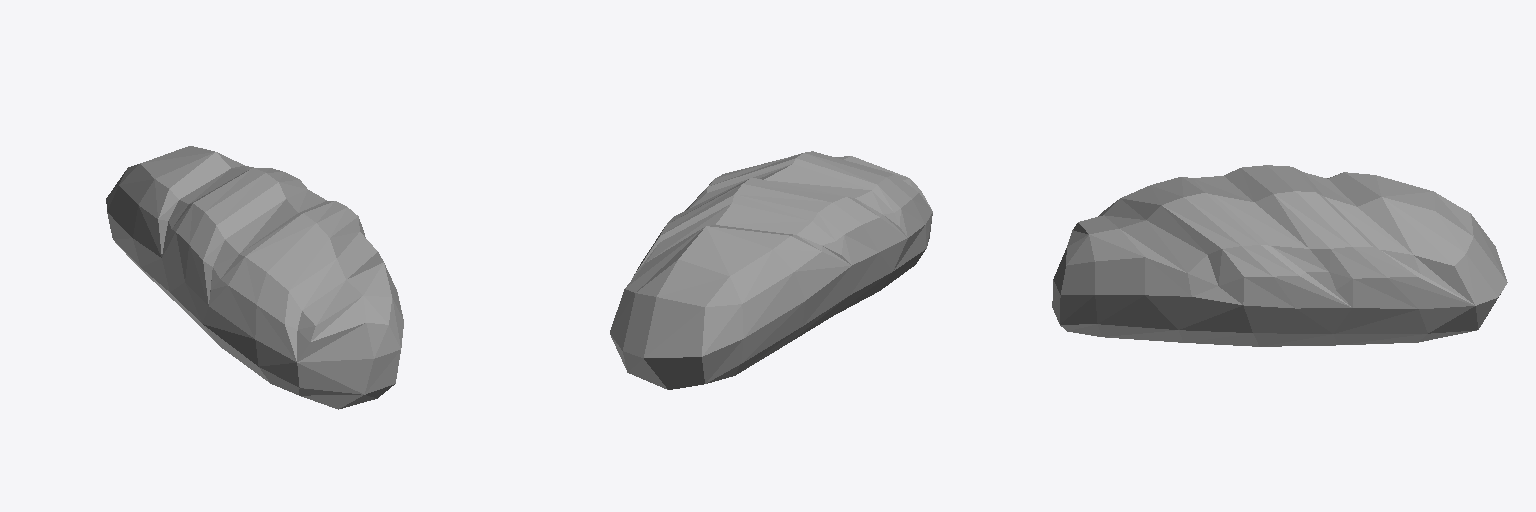
3 renders of one model, left to right at view 1: azimuth 30°, elevation 25°; view 2: azimuth 150°, elevation 25°; view 3: azimuth 270°, elevation 25°, orthographic.
Parts seen in each view (by area): view 1: DrawCall_85; view 2: DrawCall_85; view 3: DrawCall_85.
Boxes of the visible parts, x1=… form: DrawCall_85: x1=106, y1=146, x2=403, y2=409; DrawCall_85: x1=610, y1=151, x2=932, y2=389; DrawCall_85: x1=1052, y1=165, x2=1507, y2=346.
Size of the model in its own units: 0.7542 by 0.5653 by 1.59.